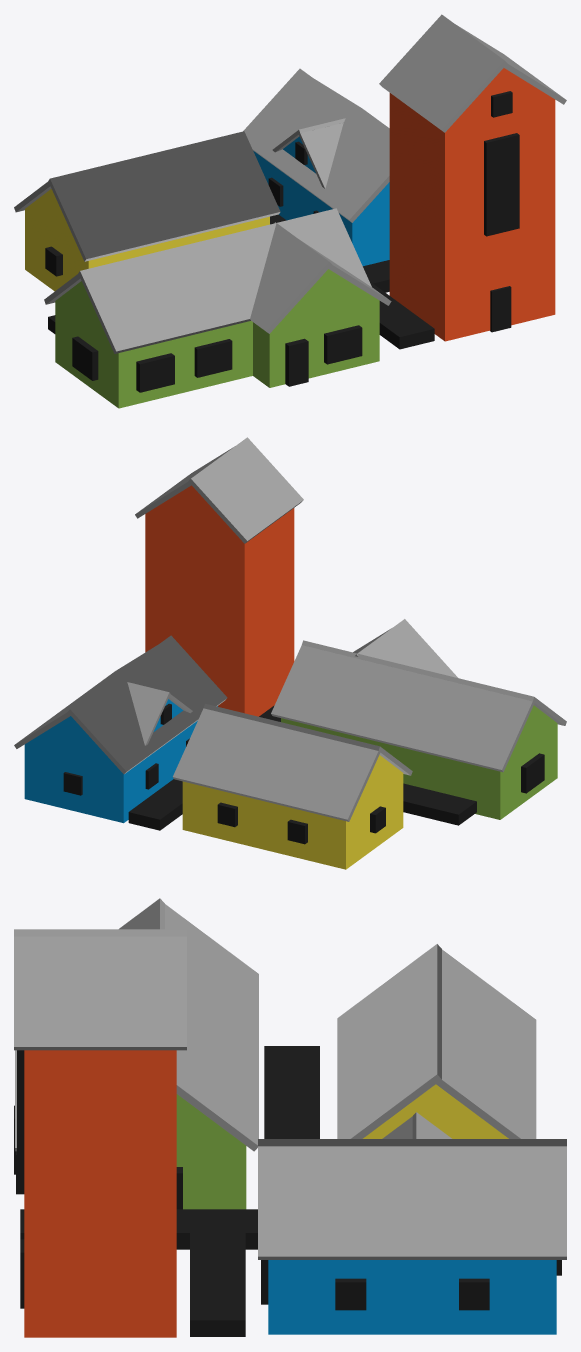
File: FourSmallHouses.fbx
The picture shows the model from 3 angles, top to bottom: view 1: azimuth 30°, elevation 25°; view 2: azimuth 150°, elevation 25°; view 3: azimuth 270°, elevation 25°; orthographic projection. The views are drawn at different scales.
Visible parts, largest first — view 1: node_id31 (×6), node_id30 (×9), node_id33 (×2), node_id34 (×3), node_id32 (×2), root; view 2: node_id31 (×3), node_id30 (×5), node_id33 (×3), node_id34 (×3), node_id32 (×2); view 3: node_id31 (×4), node_id34 (×3), node_id33 (×2), node_id30 (×3), node_id32 (×3).
Part boxes in pixels (x1,y1,x2,y2): node_id31 (×6): [379, 14, 566, 341]; node_id30 (×9): [55, 208, 391, 408]; node_id33 (×2): [14, 131, 280, 291]; node_id34 (×3): [243, 68, 389, 266]; node_id32 (×2): [270, 214, 434, 349]; root: [285, 338, 308, 386]; node_id31 (×3): [135, 437, 303, 716]; node_id30 (×5): [271, 619, 566, 819]; node_id33 (×3): [173, 703, 412, 869]; node_id34 (×3): [14, 635, 227, 823]; node_id32 (×2): [128, 705, 476, 830]; node_id31 (×4): [14, 929, 186, 1337]; node_id34 (×3): [258, 1112, 566, 1334]; node_id33 (×2): [337, 944, 536, 1138]; node_id30 (×3): [119, 898, 258, 1209]; node_id32 (×3): [20, 1046, 319, 1336].
Bounding box in the file's own units: 0.512 × 0.3092 × 0.4104.
